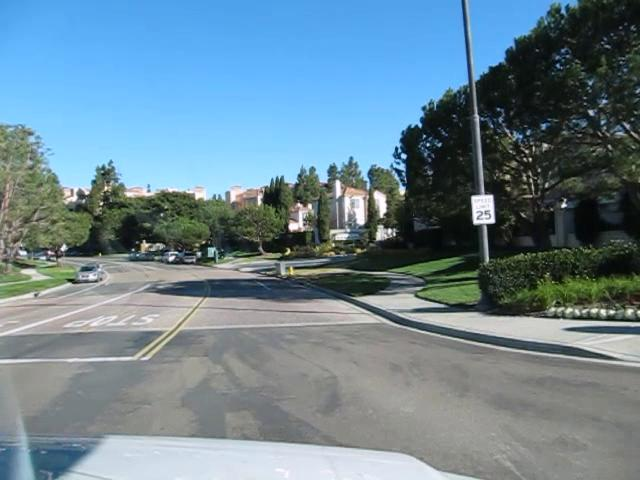speedLimit25: (470, 193, 495, 225)
